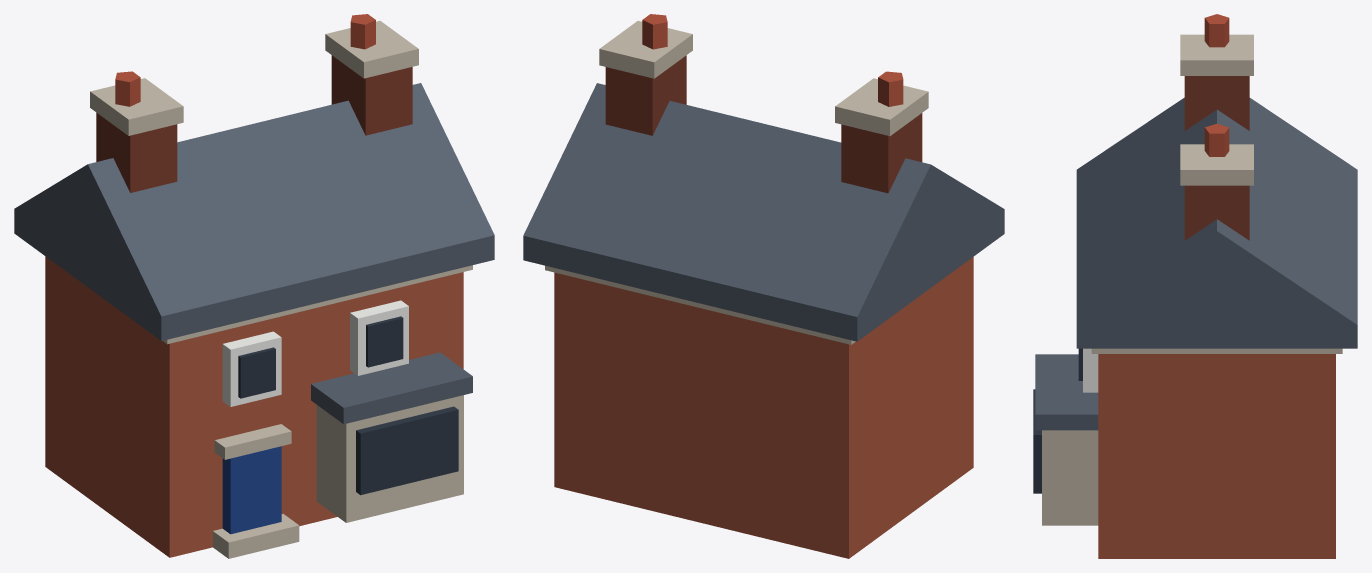
File: house_4_a.glb
3 renders of one model, left to right at view 1: azimuth 30°, elevation 25°; view 2: azimuth 150°, elevation 25°; view 3: azimuth 270°, elevation 25°, orthographic. The views are drawn at different scales.
Parts seen in each view (by area): view 1: house_4_a; view 2: house_4_a; view 3: house_4_a.
Part boxes in pixels (box(x1,y1,x2,y2)): house_4_a: box(14, 14, 494, 558); house_4_a: box(523, 14, 1004, 558); house_4_a: box(1033, 14, 1357, 558).
Size of the model in its own units: 0.17 by 0.21 by 0.15.
